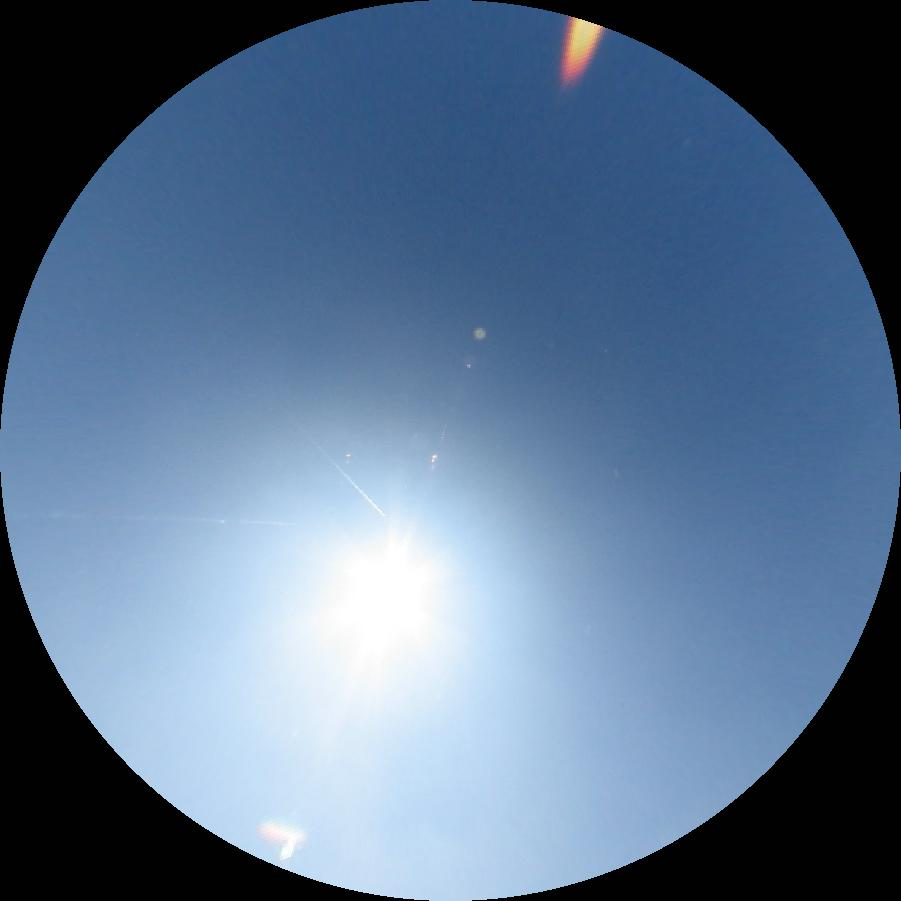contrail young: (280, 405, 386, 517)
parasite: (3, 509, 297, 524)
sun: (333, 550, 426, 652)
